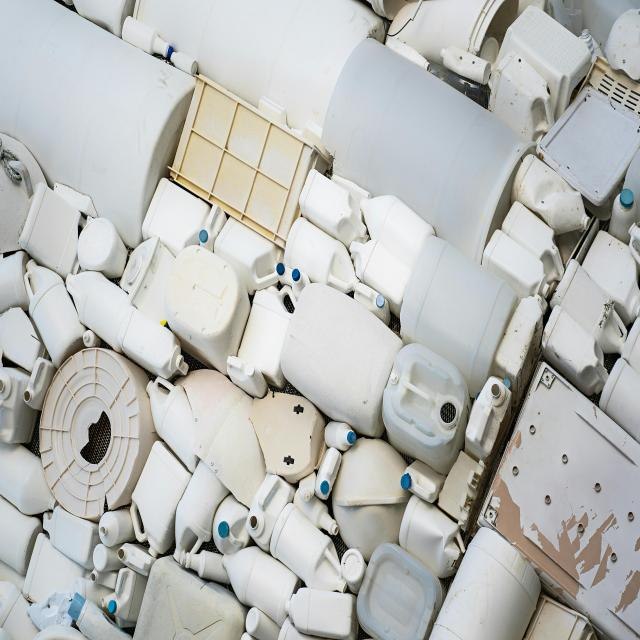plastic: (158, 228, 426, 594)
